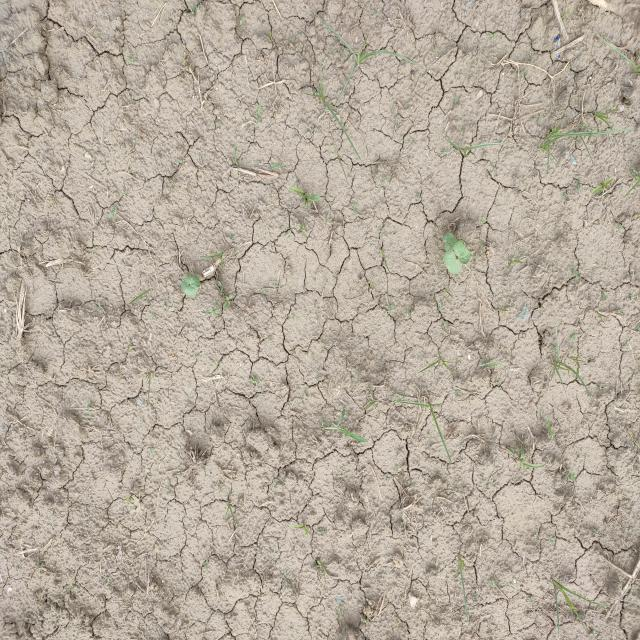seedling: (443, 250, 461, 274), (454, 241, 470, 264), (185, 275, 200, 297), (181, 274, 192, 293), (443, 233, 456, 247), (443, 243, 454, 251)
